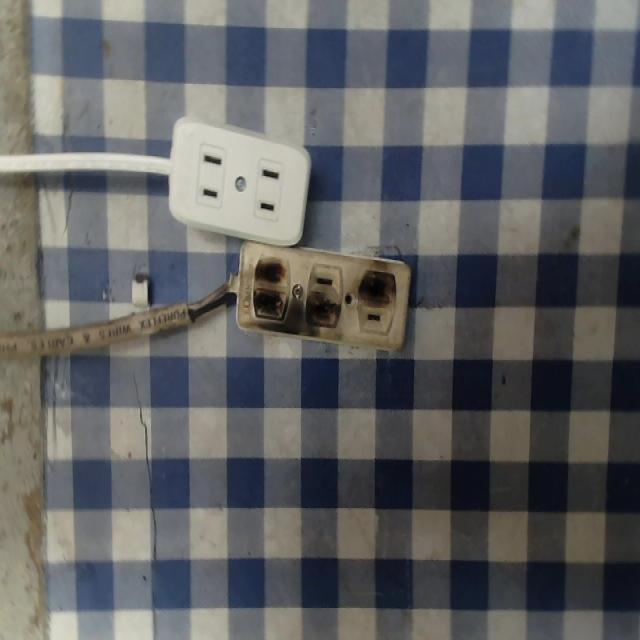-: (250, 248, 292, 324), (351, 256, 402, 309), (303, 289, 341, 340)
